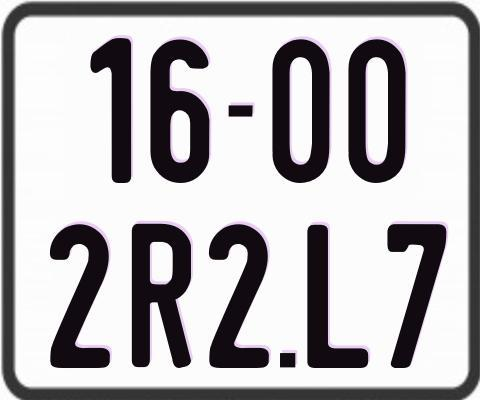0: (269, 37, 329, 187), (348, 36, 408, 181)
1: (87, 38, 130, 185)
2: (49, 221, 114, 370), (209, 221, 269, 365)
6: (147, 39, 211, 183)
7: (384, 224, 445, 374)
L: (305, 225, 370, 369)
R: (132, 222, 194, 370)
